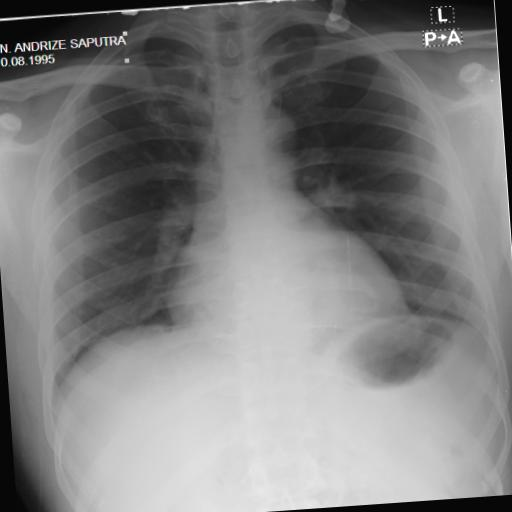kardiomegali: (14, 0, 505, 412)
